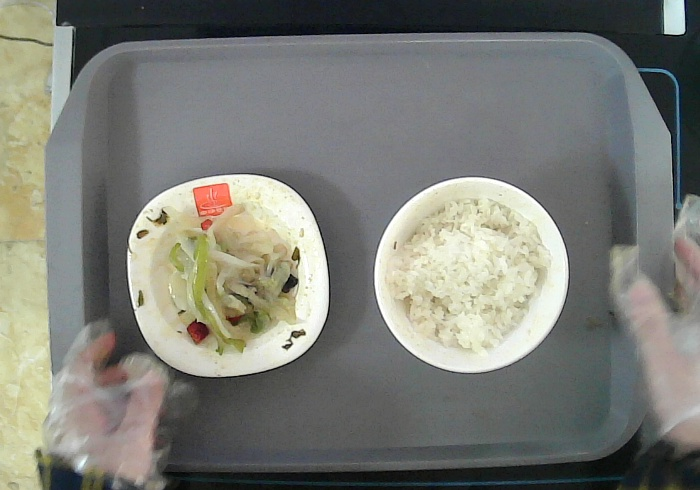SHKJ-Bai_Se_Si_Fang_Cai_Die: (123, 171, 332, 380)
SHKJ-Fan_Wan: (371, 173, 572, 375)
